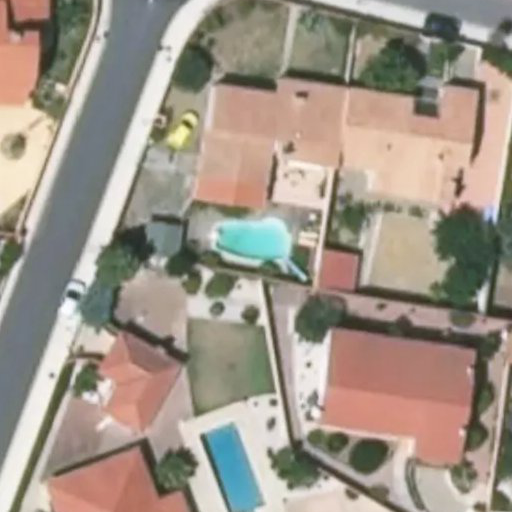pool: (197, 420, 267, 511), (211, 218, 293, 271)
